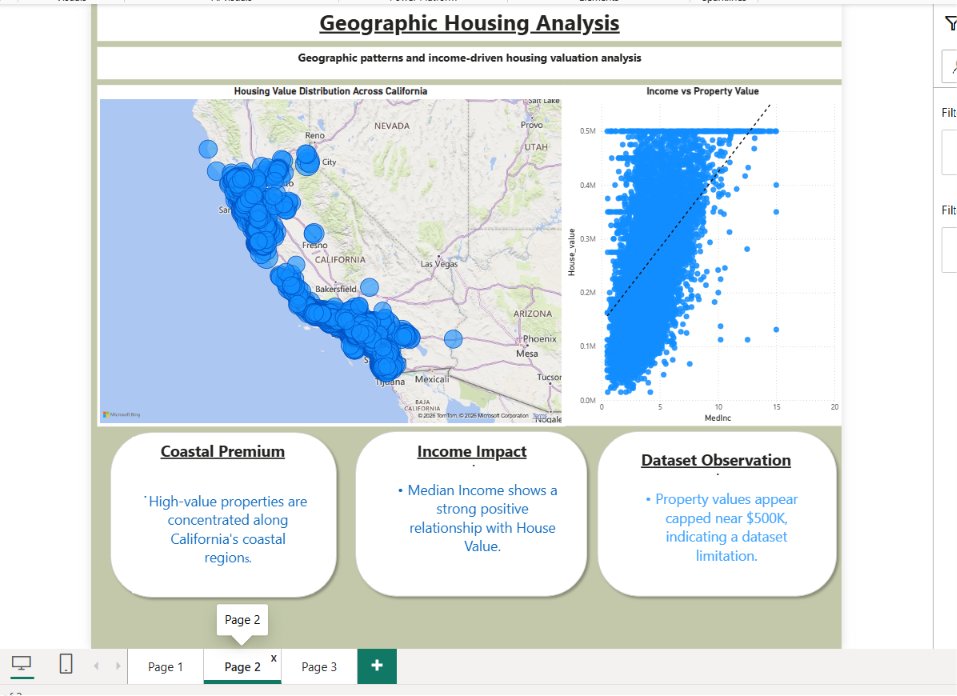

Layout of this report page (visuals, bound fields, positions):
{"tool":"powerbi","page":{"name":"Page 2","canvas":[1280,1100],"ordinal":1},"visuals":[{"type":"textbox","box":[9.6,0,1270.7,63.1],"z":0},{"type":"map","title":"Housing Value Distribution Across California","fields":{"Y":["California_Housing_cleaned.Latitude"],"X":["California_Housing_cleaned.Longitude"],"Size":["Avg(California_Housing_cleaned.House_value)"]},"box":[9.6,138.6,797.3,581.8],"z":1000},{"type":"scatterChart","title":"Income vs Property Value","fields":{"X":["California_Housing_cleaned.MedInc"],"Y":["California_Housing_cleaned.House_value"]},"box":[806.9,138.6,473.4,581.8],"z":2000},{"type":"textbox","box":[9.6,72.7,1270.7,54.9],"z":3000},{"type":"shape","box":[24.2,722.1,403.8,299.6],"z":4000},{"type":"shape","box":[441.1,720.2,413.2,299.6],"z":5000},{"type":"shape","box":[854.2,720.2,426.2,299.6],"z":6000},{"type":"textbox","box":[70.7,738.8,308.9,266.1],"z":7000},{"type":"textbox","box":[491.3,738.8,316.4,253.1],"z":8000},{"type":"textbox","box":[885.9,753.7,361,219.6],"z":9000}]}

Visuals, with their boxes on the page's 1280x1100 design canvas (x1, y1, x2, y2). These are canvas units, not pixel positions in the 957x696 screenshot, which may show the page scaled, cropped or inside an application window:
textbox: crop(10, 0, 1280, 63)
"Housing Value Distribution Across California" map: crop(10, 139, 807, 720)
"Income vs Property Value" scatterChart: crop(807, 139, 1280, 720)
textbox: crop(10, 73, 1280, 128)
shape: crop(24, 722, 428, 1022)
shape: crop(441, 720, 854, 1020)
shape: crop(854, 720, 1280, 1020)
textbox: crop(71, 739, 380, 1005)
textbox: crop(491, 739, 808, 992)
textbox: crop(886, 754, 1247, 973)
